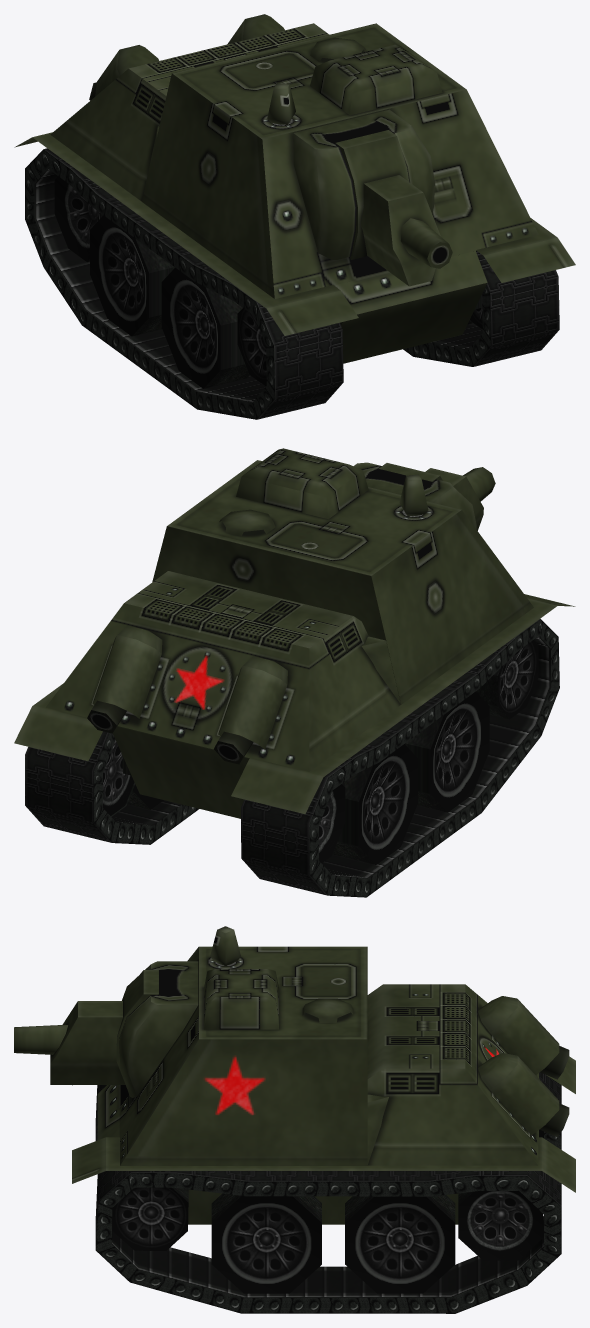
Rendered from SU122_SD_Model_Track.FBX.
3 views of the same model, one above another, from view 1: azimuth 30°, elevation 25°; view 2: azimuth 150°, elevation 25°; view 3: azimuth 270°, elevation 25° (orthographic). The views are drawn at different scales.
Parts seen in each view (by area): view 1: Body, RightTrack, Cannon, LeftTrack; view 2: Body, RightTrack, LeftTrack, Cannon; view 3: Body, LeftTrack, Cannon, RightTrack.
Boxes of the visible parts, x1=… form: Body: x1=14, y1=14, x2=575, y2=363; RightTrack: x1=25, y1=148, x2=343, y2=419; Cannon: x1=335, y1=130, x2=452, y2=286; LeftTrack: x1=403, y1=251, x2=559, y2=366; Body: x1=14, y1=448, x2=575, y2=818; RightTrack: x1=241, y1=618, x2=559, y2=897; LeftTrack: x1=25, y1=731, x2=198, y2=844; Cannon: x1=379, y1=463, x2=495, y2=530; Body: x1=72, y1=926, x2=575, y2=1224; LeftTrack: x1=95, y1=1171, x2=561, y2=1313; Cannon: x1=14, y1=970, x2=158, y2=1087; RightTrack: x1=95, y1=1072, x2=561, y2=1149.
Bounding box in the file's own units: 1.07 × 1.09 × 1.92.
2 materials, 2 textured.
